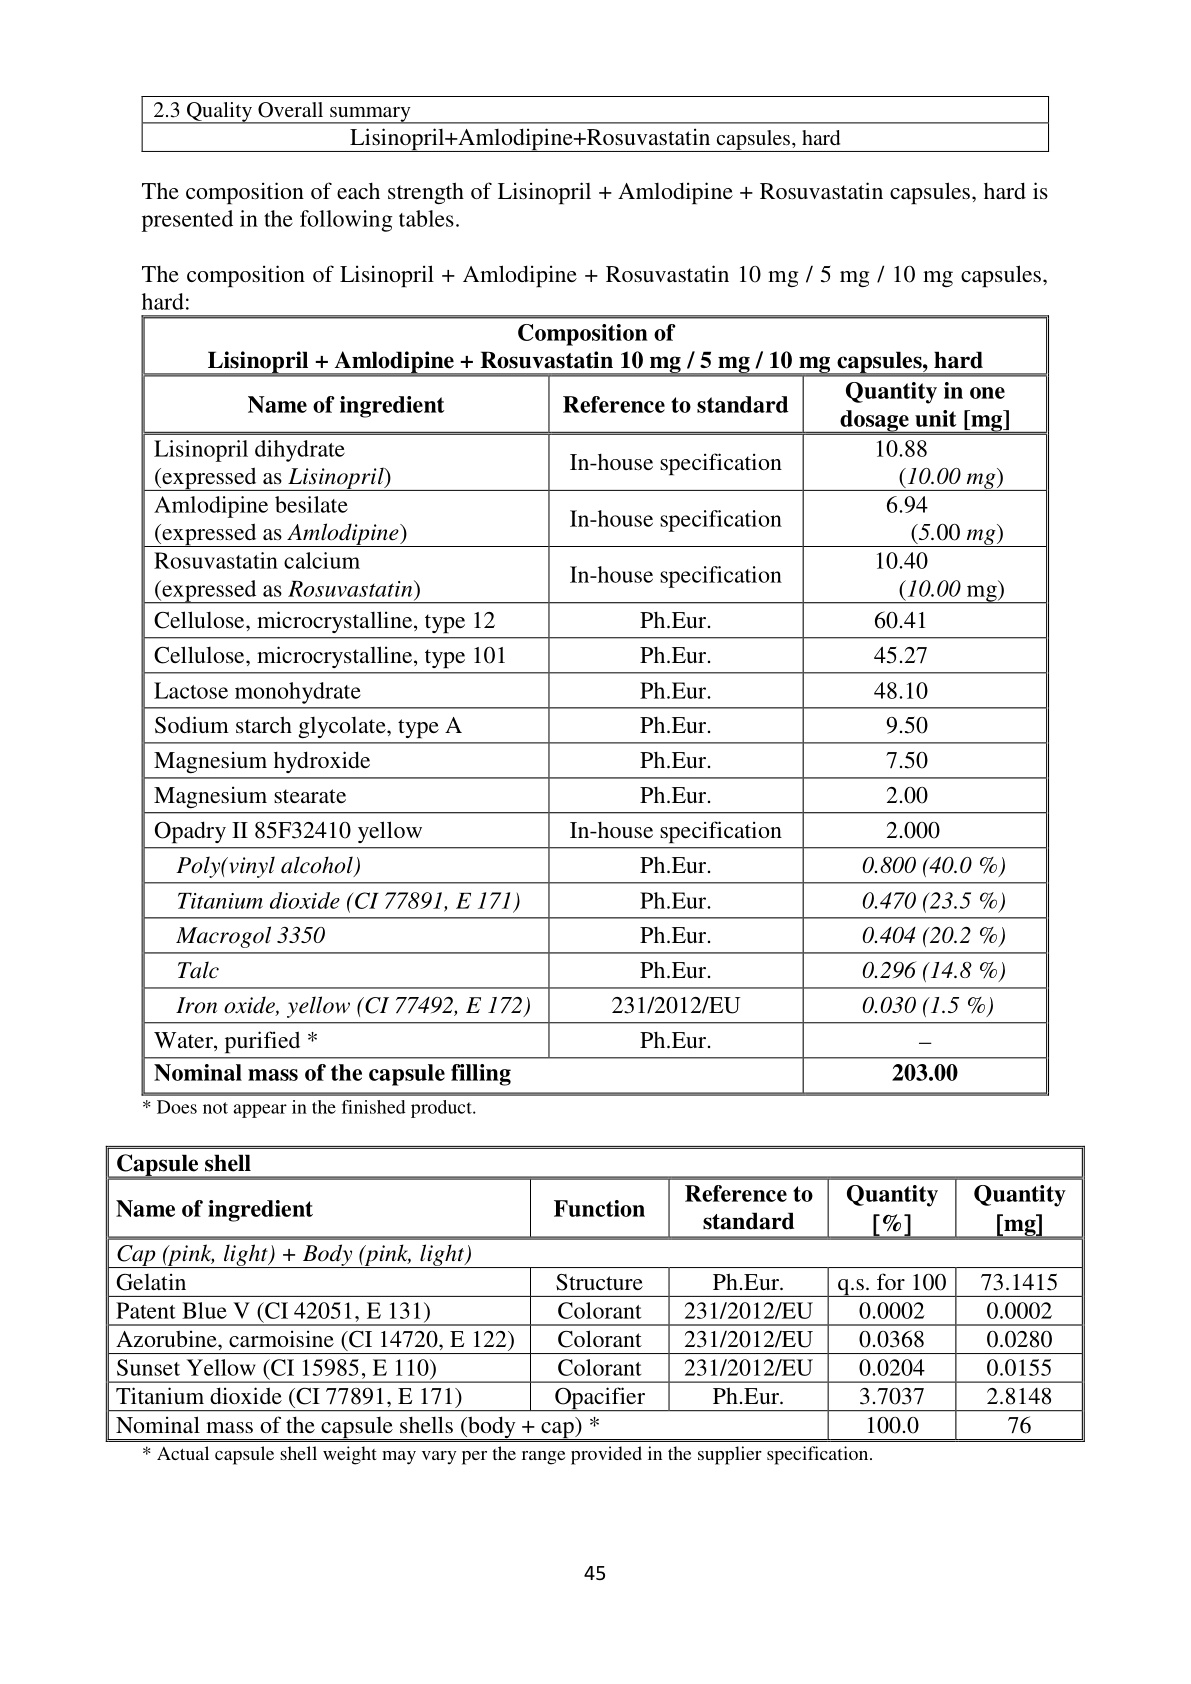full_lined: (140, 97, 1049, 152)
merged_cells: (140, 314, 1049, 1096), (104, 1145, 1085, 1443)
